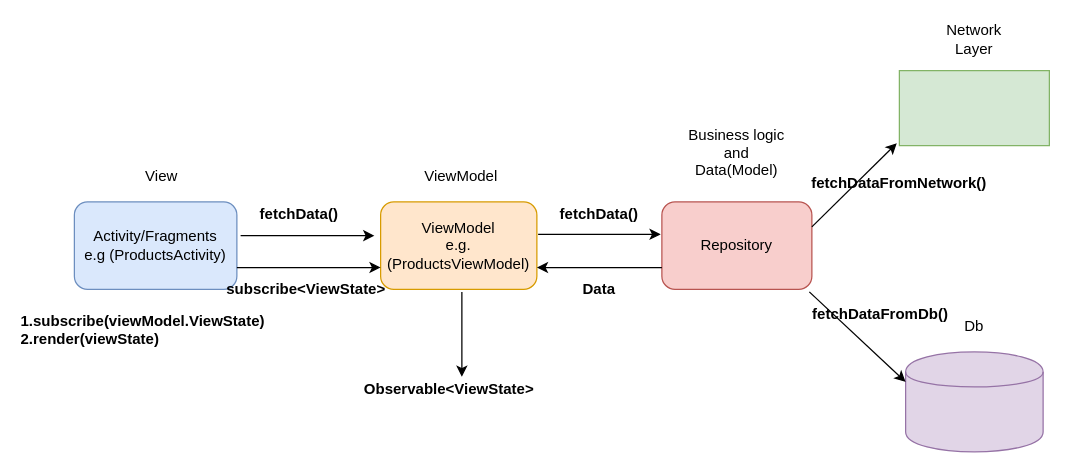
This 1071x474 diagram has some shape labels left out. Each missing label, with the box of its shape:
ApiService: (898, 69, 1049, 146)
RealmService: (904, 351, 1043, 452)
